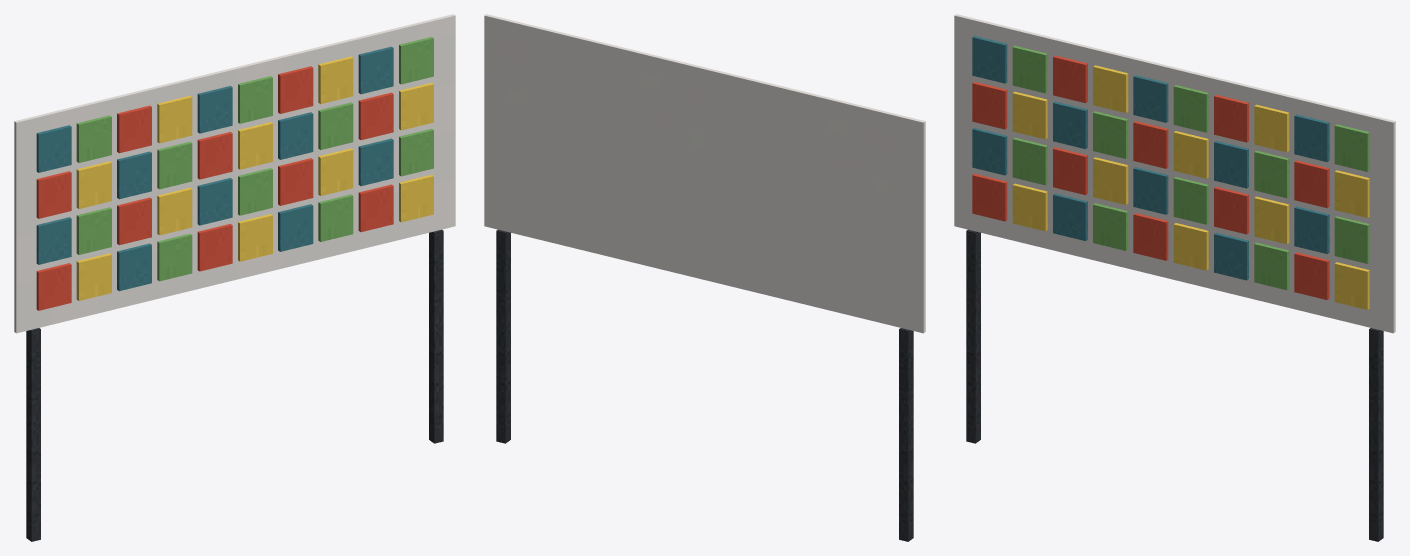
The picture shows the model from 3 angles, left to right: view 1: azimuth 30°, elevation 25°; view 2: azimuth 150°, elevation 25°; view 3: azimuth 330°, elevation 25°; orthographic projection.
Visible parts, largest first — view 1: Decor_paint_chip_board; view 2: Decor_paint_chip_board; view 3: Decor_paint_chip_board.
Boxes of the visible parts, left/top/right/bottom form: Decor_paint_chip_board: left=14, top=14, right=455, bottom=541; Decor_paint_chip_board: left=484, top=14, right=925, bottom=541; Decor_paint_chip_board: left=954, top=14, right=1395, bottom=541.
Bounding box in the file's own units: 2.4 × 2.2 × 0.055.
Materials: 6 (6 with a texture image).
